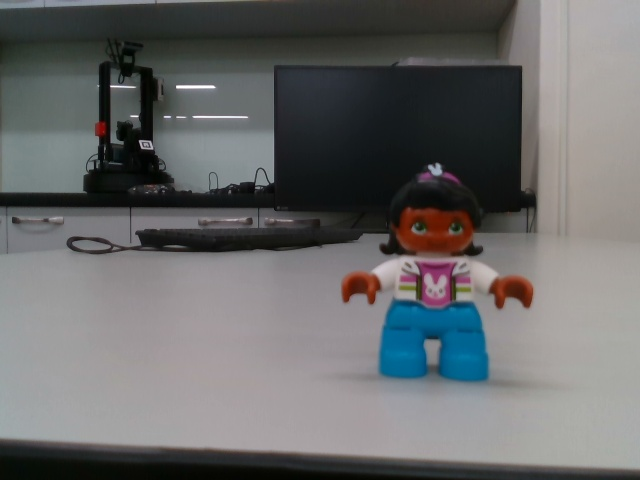people: (341, 160, 538, 385)
